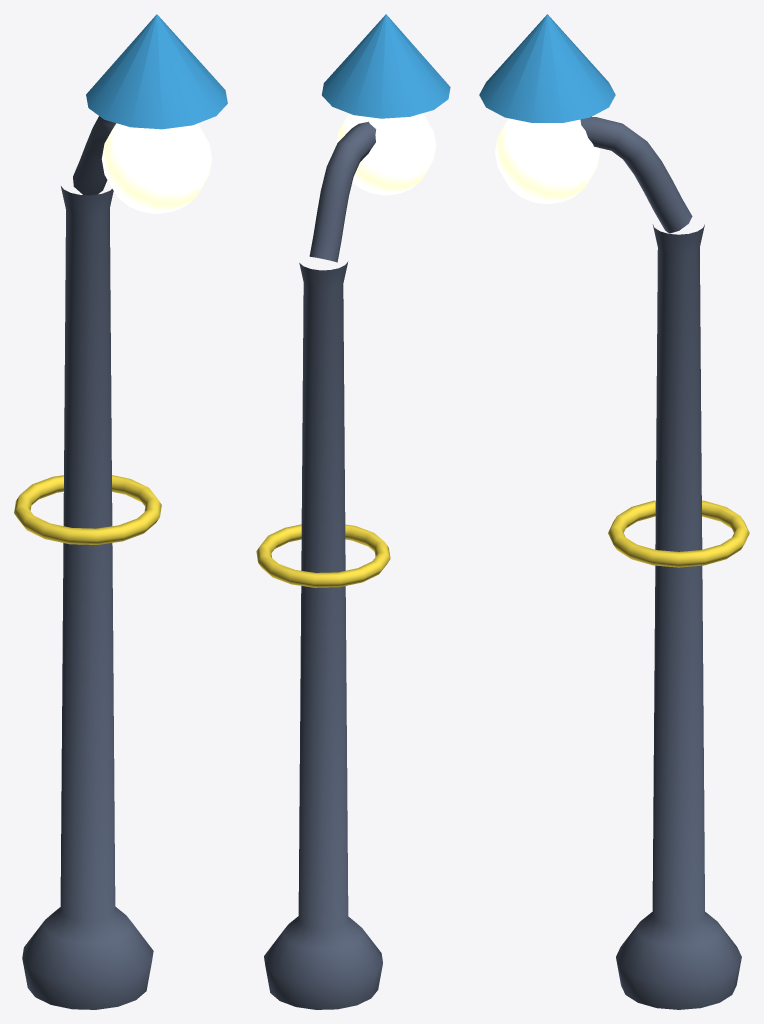
File: street-lamp.glb
The picture shows the model from 3 angles, left to right: view 1: azimuth 30°, elevation 25°; view 2: azimuth 150°, elevation 25°; view 3: azimuth 270°, elevation 25°; orthographic projection. The views are drawn at different scales.
Parts seen in each view (by area): view 1: harbour-street-lamp; view 2: harbour-street-lamp; view 3: harbour-street-lamp.
Part boxes in pixels (x1,y1,x2,y2): harbour-street-lamp: (14,14,227,1009); harbour-street-lamp: (256,14,450,1009); harbour-street-lamp: (479,14,749,1009).
Size of the model in its own units: 0.54 by 4.08 by 1.03.
